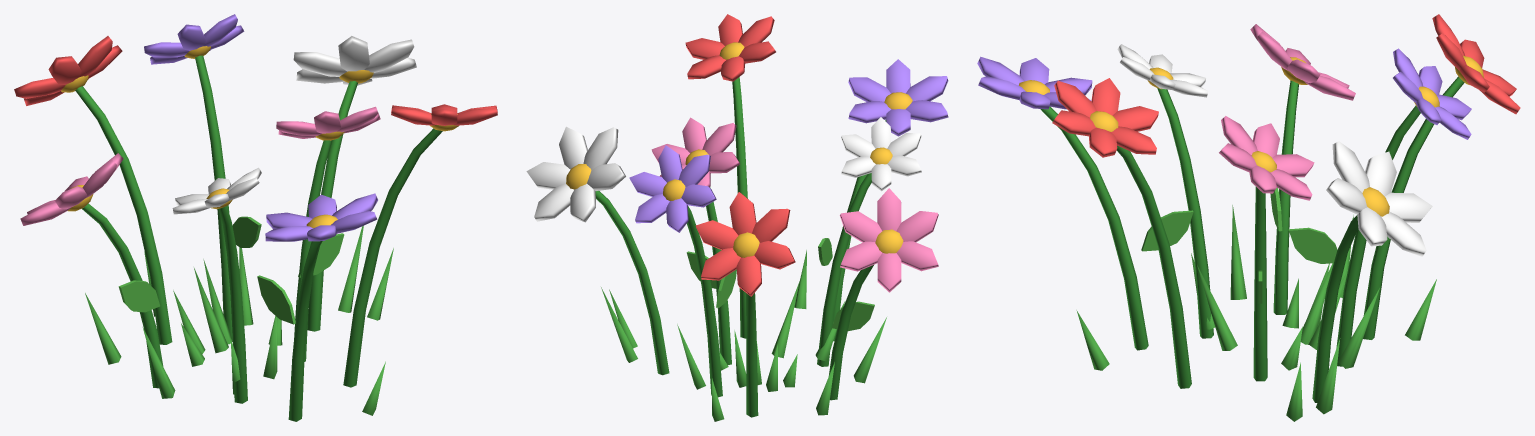
File: Meadow_FlowerClump.glb
3 renders of one model, left to right at view 1: azimuth 30°, elevation 25°; view 2: azimuth 150°, elevation 25°; view 3: azimuth 270°, elevation 25°, orthographic. The views are drawn at different scales.
Visible parts, largest first — view 1: Stems, Grass, PetalsPurple, PetalsWhite, PetalsRed, PetalsPink, Leaves, Centres; view 2: Stems, PetalsRed, PetalsWhite, PetalsPurple, PetalsPink, Grass, Centres, Leaves; view 3: Stems, PetalsWhite, PetalsRed, Grass, PetalsPink, PetalsPurple, Leaves, Centres.
Boxes of the visible parts, x1,y1,x2,y2 form: Stems: (75, 55, 442, 421); Grass: (85, 225, 393, 415); PetalsPurple: (144, 14, 377, 241); PetalsWhite: (172, 36, 416, 214); PetalsRed: (14, 36, 497, 125); PetalsPink: (20, 106, 380, 225); Leaves: (118, 216, 344, 324); Centres: (61, 46, 458, 228); Stems: (595, 77, 886, 417); PetalsRed: (685, 14, 795, 296); PetalsWhite: (526, 117, 921, 222); PetalsPurple: (629, 59, 948, 232); PetalsPink: (651, 117, 938, 292); Grass: (601, 250, 886, 421); Centres: (566, 42, 912, 257); Leaves: (686, 238, 874, 331); Stems: (1040, 76, 1464, 402); PetalsWhite: (1117, 44, 1432, 256); PetalsRed: (1052, 14, 1520, 157); Grass: (1076, 205, 1436, 421); PetalsPink: (1219, 24, 1355, 200); PetalsPurple: (977, 48, 1471, 139); Leaves: (1141, 188, 1337, 303); Centres: (1019, 55, 1483, 216).
Bounding box in the file's own units: 5.54 × 3.84 × 5.86.
